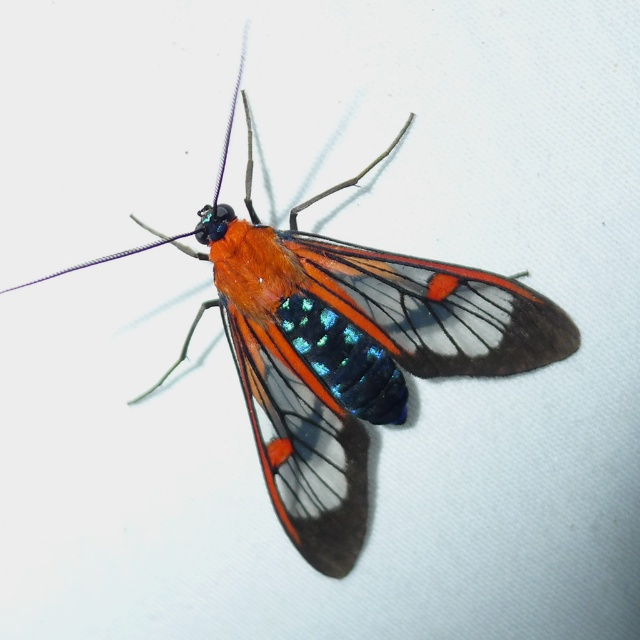Moths and butterflies: (0, 20, 584, 579)
